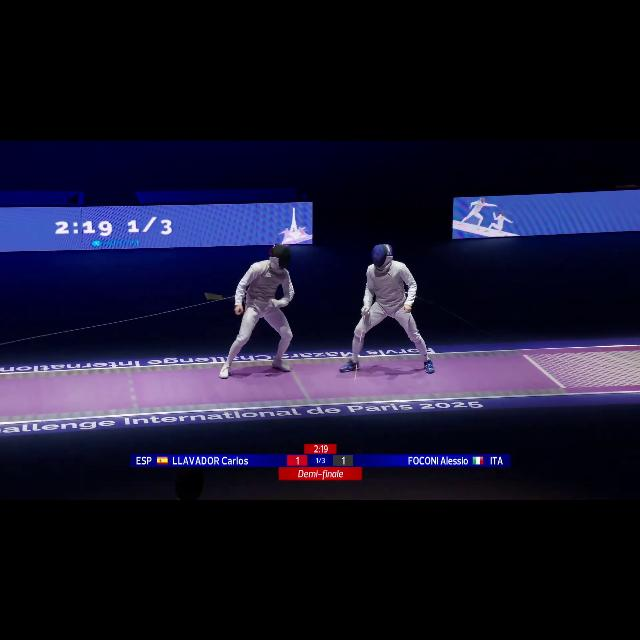blade: (350, 308, 372, 388), (202, 290, 276, 310)
